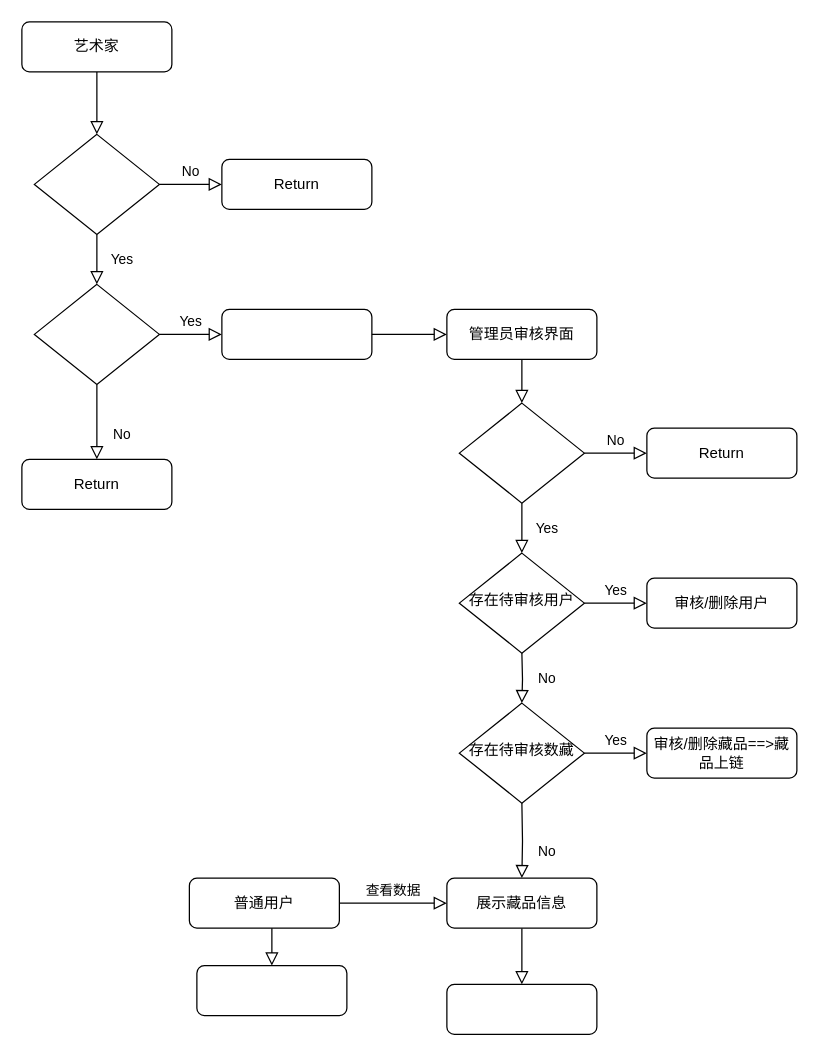
This 819x1056 diagram has some shape labels left out. The centre of each missing label's shape, as x and y in pixels:
"上传名字、图片、描述、价格" belongs at pixel 296 333.
"是否能够上架数字藏品" belongs at pixel 96 333.
"查看购买记录" belongs at pixel 271 990.
"管理员账户" belongs at pixel 521 452.
"购买==》数据上链" belongs at pixel 521 1008.
"身份是否授权" belongs at pixel 96 183.
